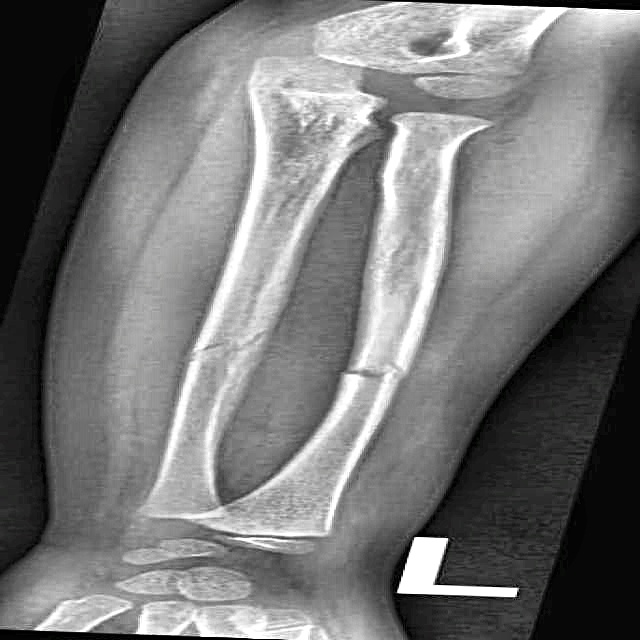Oblique Displaced: (175, 305, 289, 376)
Transverse Displaced: (336, 347, 431, 397)
